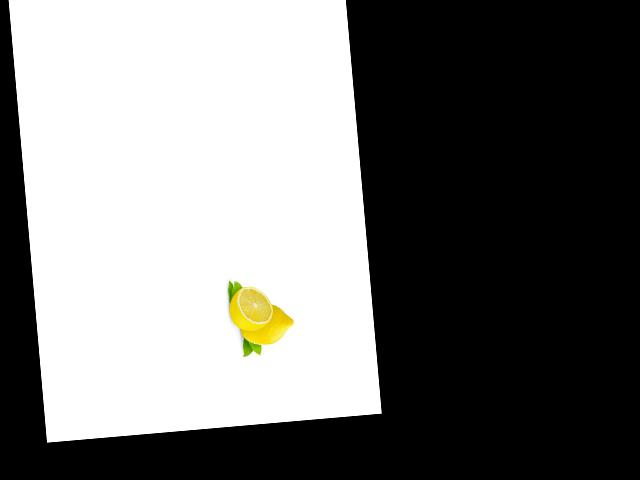lemon: (233, 300, 296, 352)
